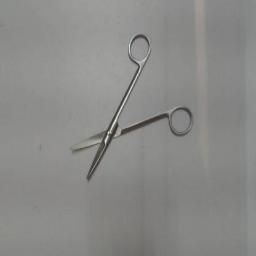Curved Mayo Scissors: (65, 30, 195, 182)
